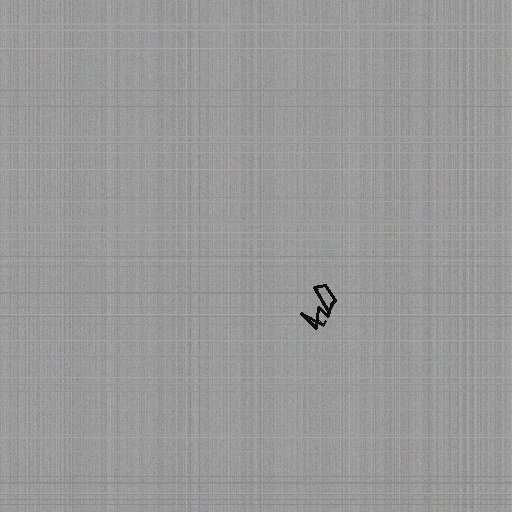crack: (297, 281, 339, 332)
